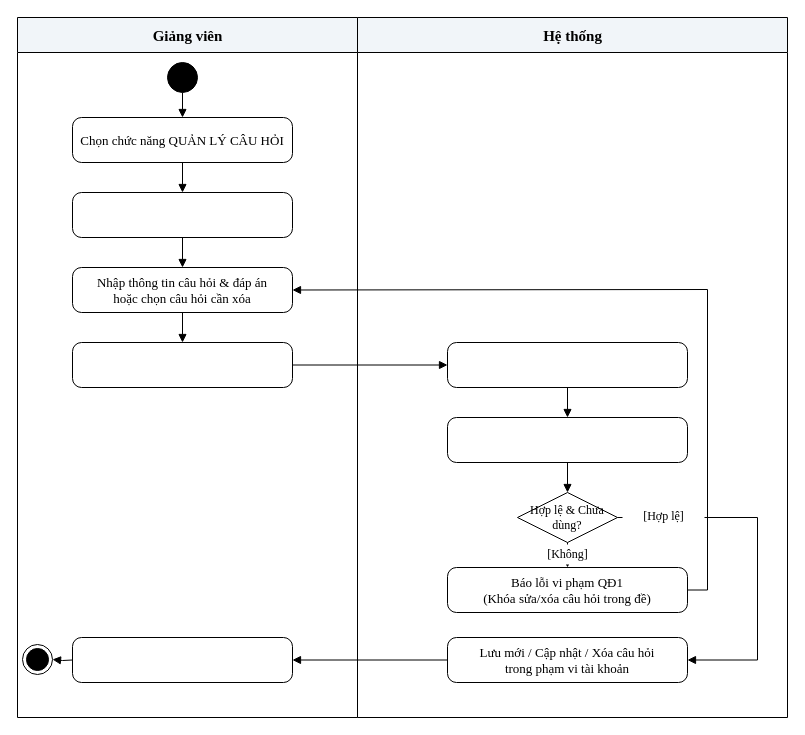
Some shapes in this 805 by 735 pixel diagram are drawn without their labels. Here are the shapes that lost their labels. From the top down, the centre of each, then its label:
At [182,215]: "Chọn thao tác (Tạo mới / Sửa / Xóa)".
At [182,365]: "Nhấn nút 'Lưu' hoặc xác nhận Xóa".
At [567,365]: "Kiểm tra dữ liệu bắt buộc, môn học và độ khó (QĐ1)".
At [567,439]: "Kiểm tra câu hỏi đã thuộc đề thi chưa?".
At [182,659]: "Nhận thông báo kết quả thành công".
